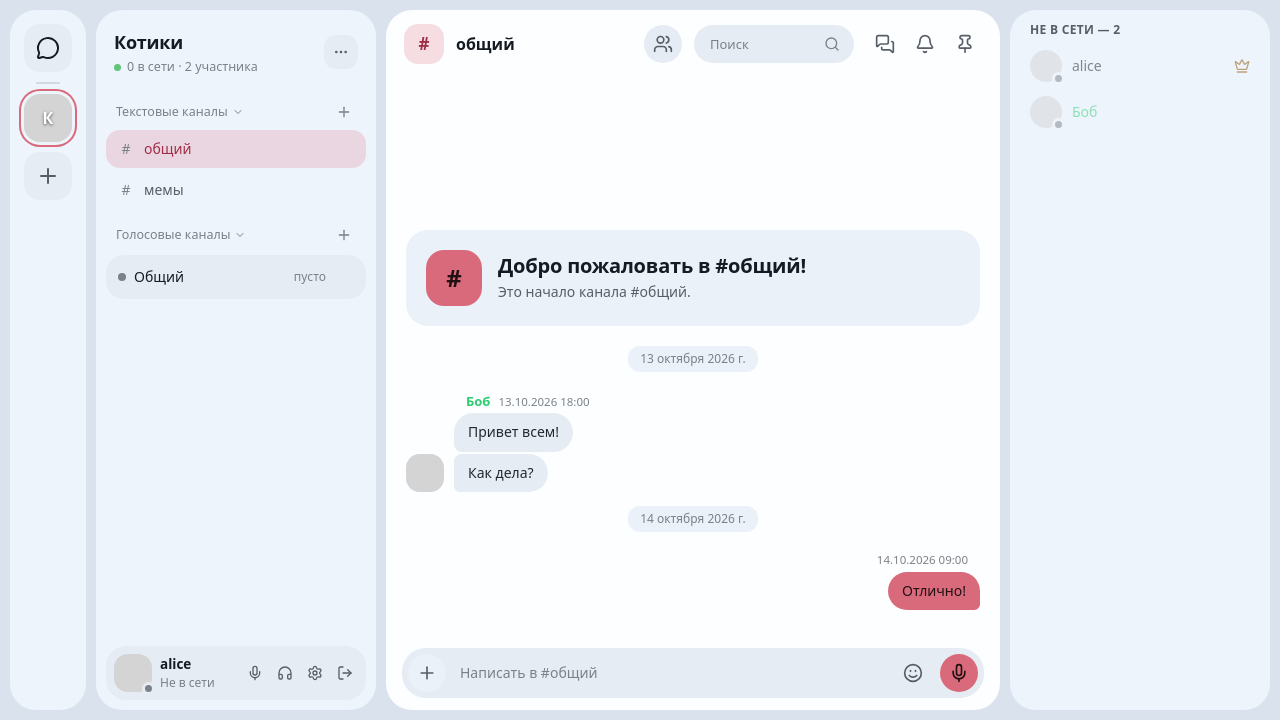
Test: the composer › offers a file or a poll from its "+" menu
Click the button named "Добавить в сообщение".
click(427, 673)  # box left=408, top=654, right=446, bottom=692
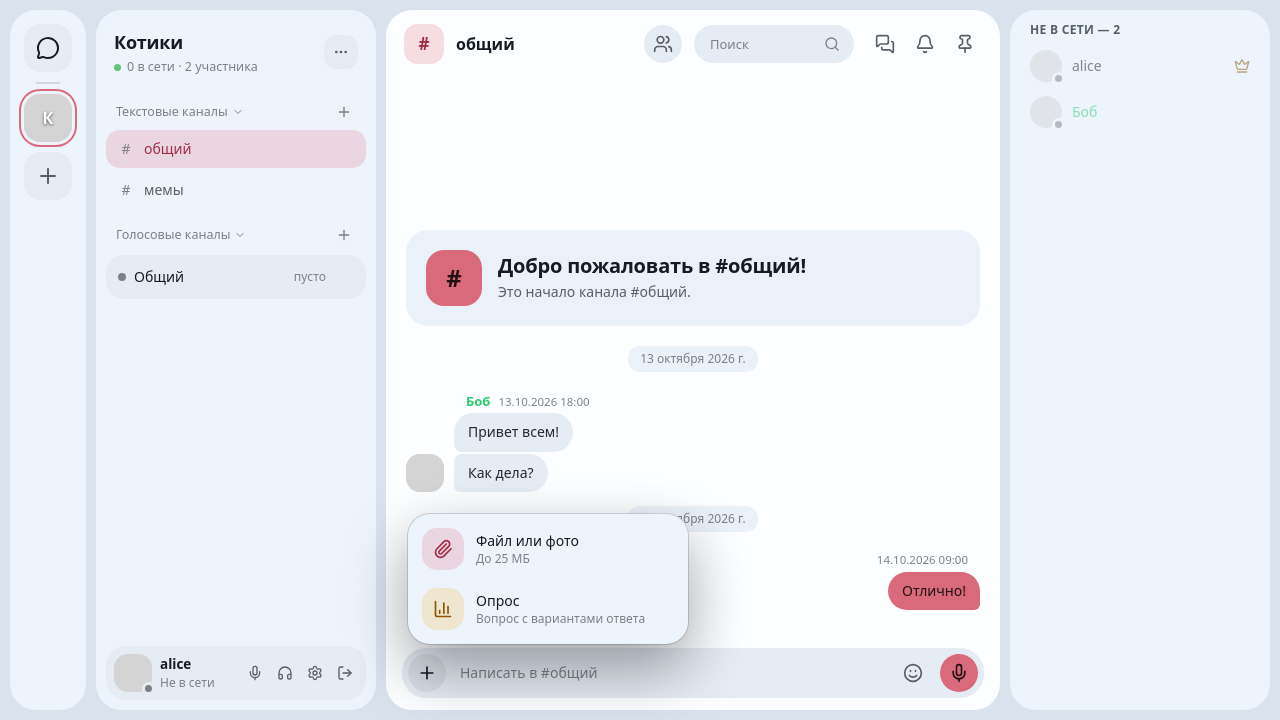
Check: the menu item "Файл или фото До 25 МБ" is shown, box left=422, top=528, right=579, bottom=570
Click the menu item "Опрос Вопрос с вариантами ответа".
click(534, 609)  # box left=422, top=588, right=645, bottom=630
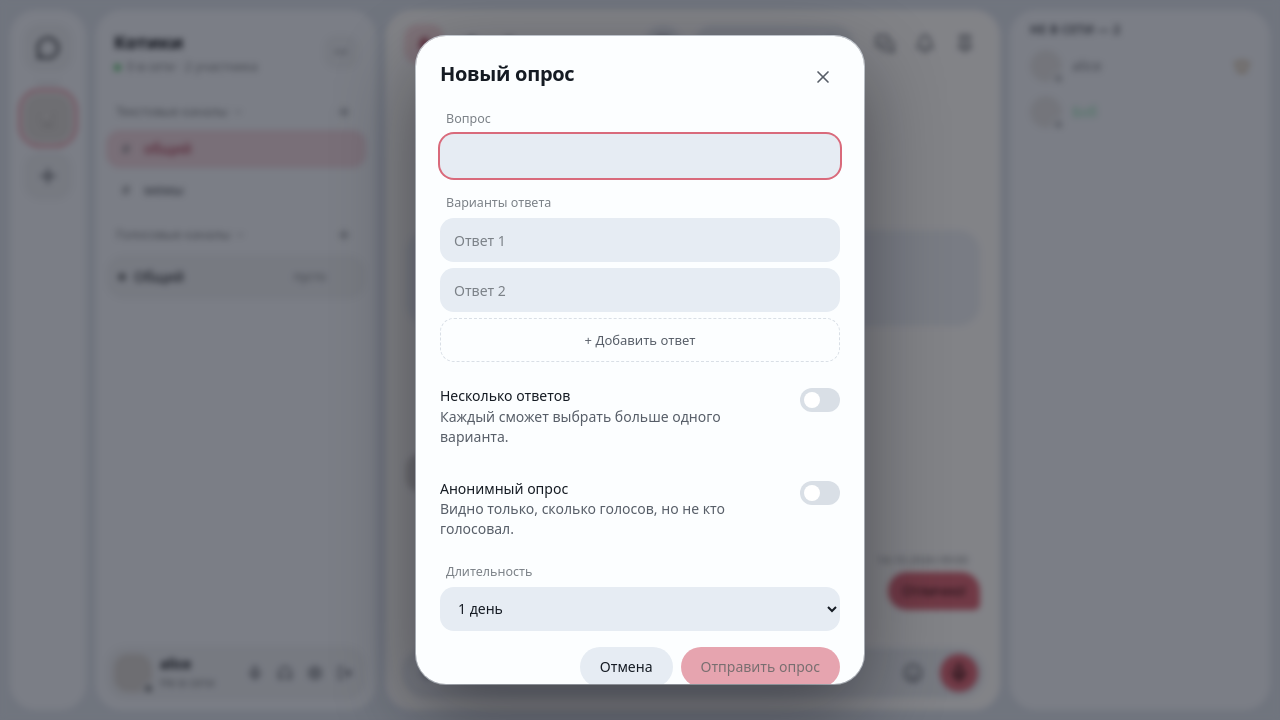
Check: the dialog "Новый опрос" is shown, box left=416, top=36, right=864, bottom=684
